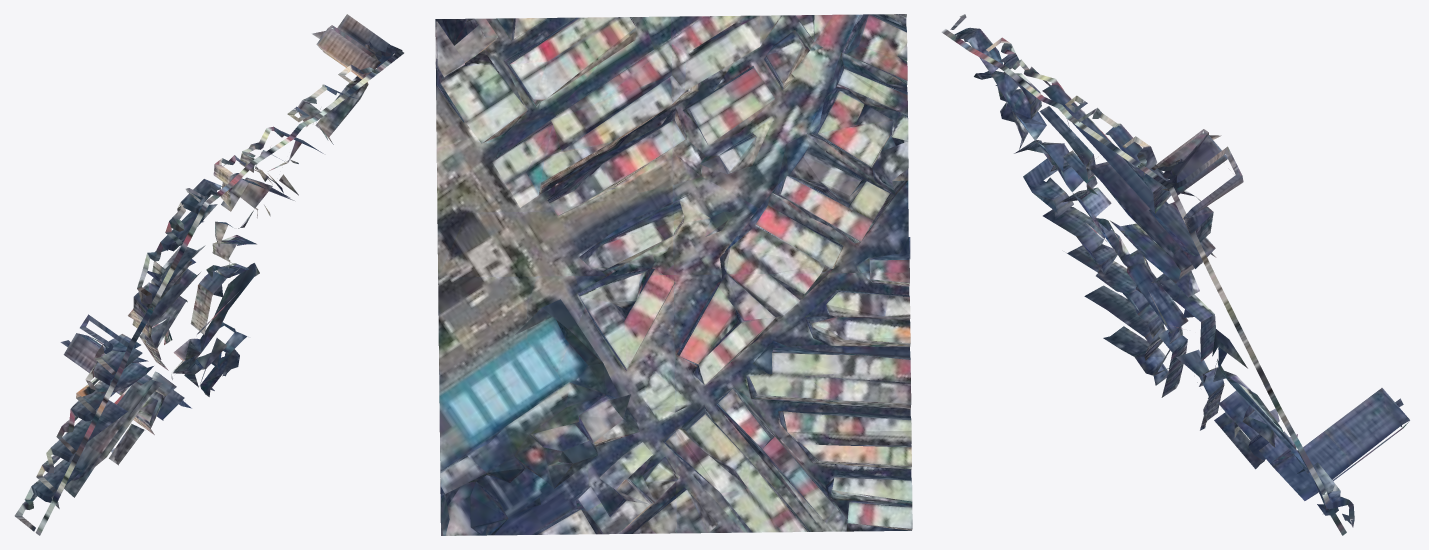
The picture shows the model from 3 angles, left to right: view 1: azimuth 30°, elevation 25°; view 2: azimuth 150°, elevation 25°; view 3: azimuth 270°, elevation 25°; orthographic projection. The views are drawn at different scales.
Size of the model in its own units: 315 by 296 by 302.
1 material, 1 textured.
